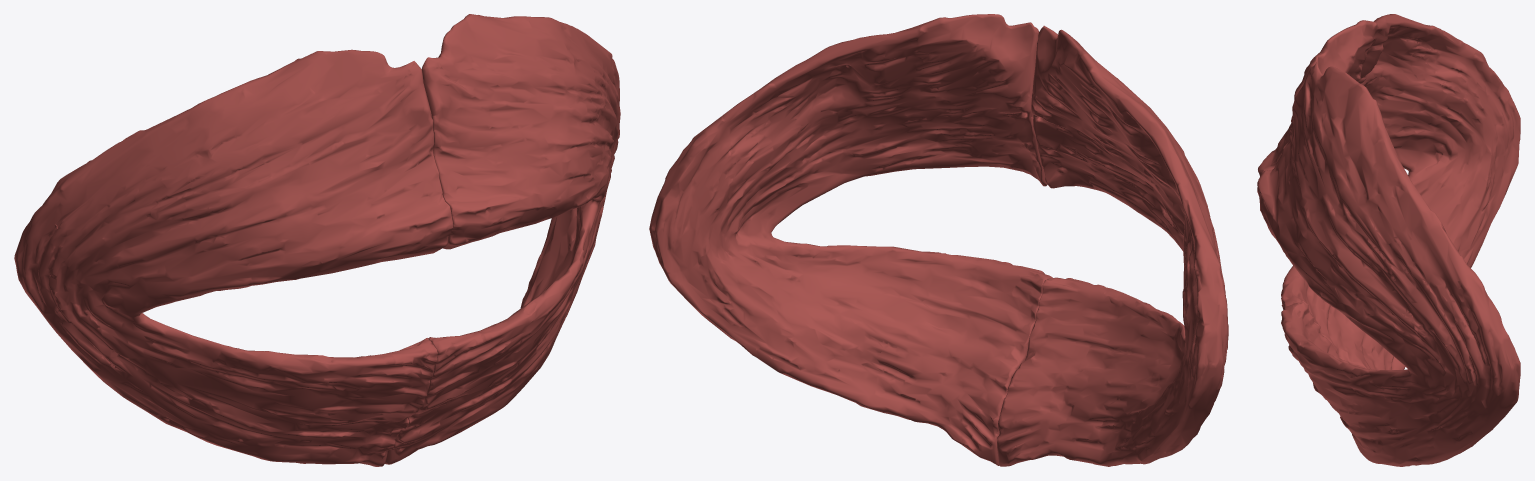
Rendered from FMA46841.glb.
3 views of the same model, side by side, from view 1: azimuth 30°, elevation 25°; view 2: azimuth 150°, elevation 25°; view 3: azimuth 270°, elevation 25° (orthographic). The views are drawn at different scales.
Visible parts, largest first — view 1: FMA46841; view 2: FMA46841; view 3: FMA46841.
Boxes of the visible parts, box(x1,y1,x2,y2) form: FMA46841: box(14, 14, 620, 466); FMA46841: box(649, 14, 1228, 466); FMA46841: box(1257, 14, 1520, 466).
Bounding box in the file's own units: 0.0621 × 0.044 × 0.0267.
